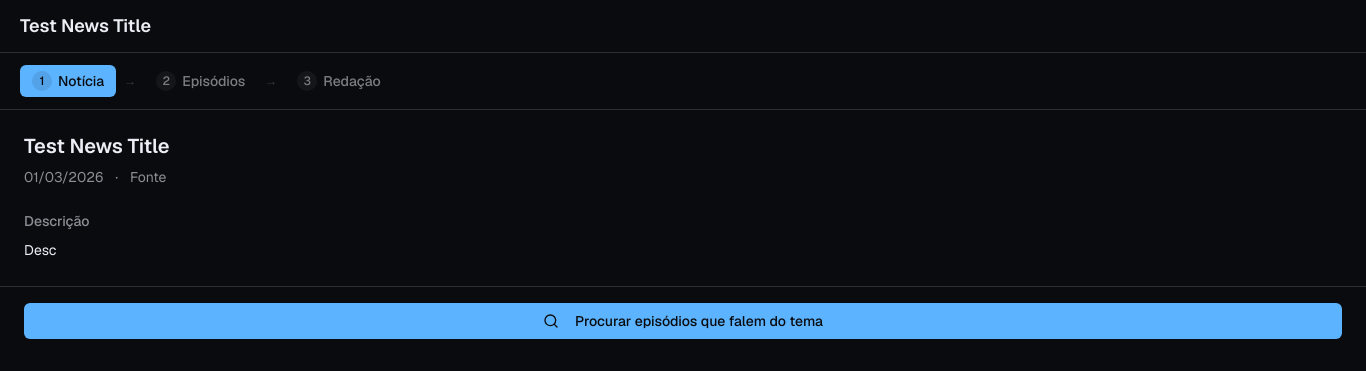
Test: NewsWorkspace component › handleDataUpdate re-fetches news without resetting phase
Step 1. Click the button with test id "find-episodes-button" → (683, 321), box [24,303,1342,339]
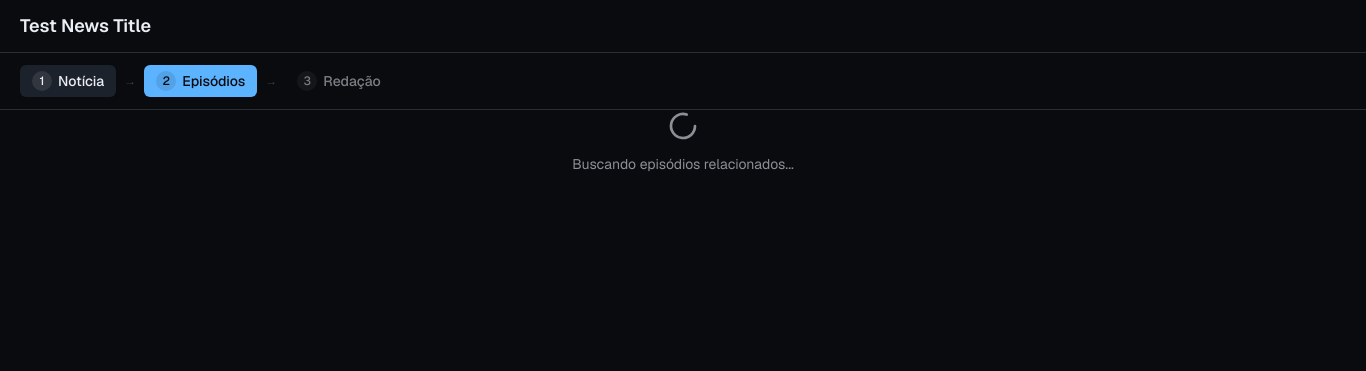
expect the element with test id "news-episodes-loading" is shown: met, box [572,110,794,173]
